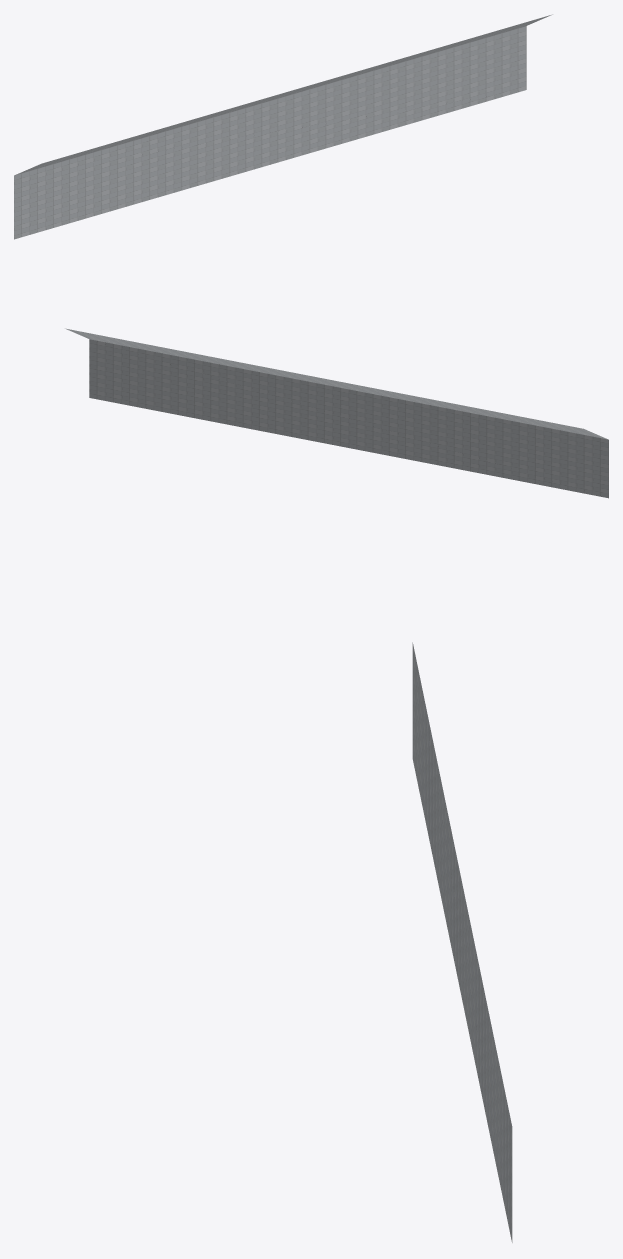
File: kd_stage_135ebf_3_28.glb
The picture shows the model from 3 angles, top to bottom: view 1: azimuth 30°, elevation 25°; view 2: azimuth 150°, elevation 25°; view 3: azimuth 270°, elevation 25°; orthographic projection. The views are drawn at different scales.
Parts seen in each view (by area): view 1: kd_stage_135ebf_3_28; view 2: kd_stage_135ebf_3_28; view 3: kd_stage_135ebf_3_28.
Part boxes in pixels (left/top/right/bottom): kd_stage_135ebf_3_28: left=14, top=14, right=552, bottom=239; kd_stage_135ebf_3_28: left=65, top=328, right=608, bottom=498; kd_stage_135ebf_3_28: left=412, top=642, right=512, bottom=1242.
Bounding box in the file's own units: 26.48 × 4.6 × 9.32.
1 material, 1 textured.
